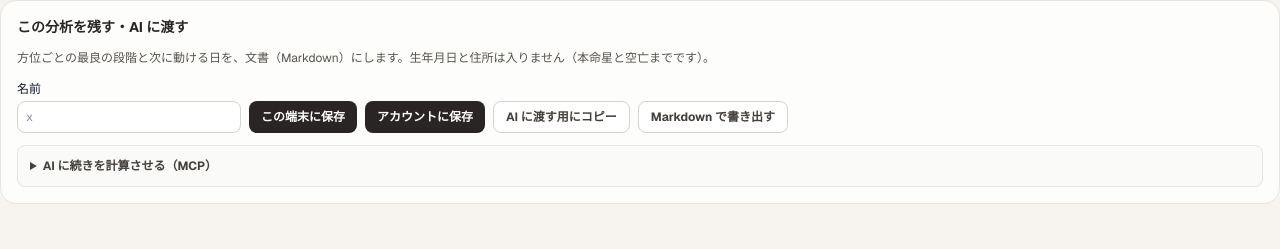
Test case: アカウントに保存（ログイン中だけ） › 上限（409）のときはサーバーの文言をそのまま出す
This screenshot has width=1280, height=249.
Click the button "アカウントに保存" at [425, 116], box [365,100,485,132]
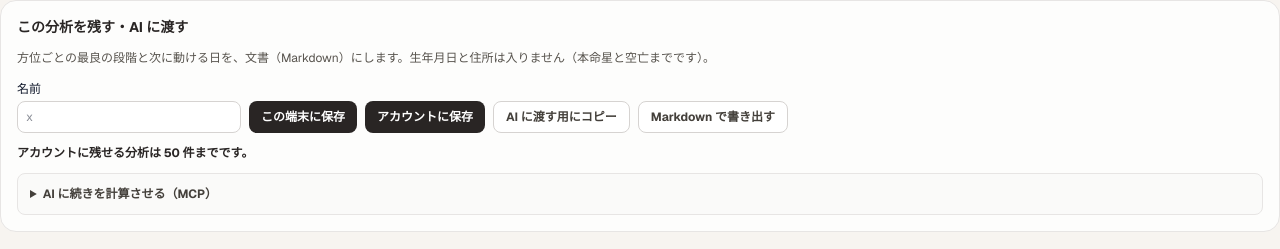
Result: the text "アカウントに残せる分析は 50 件までです。" is shown at [17,144,253,160]
